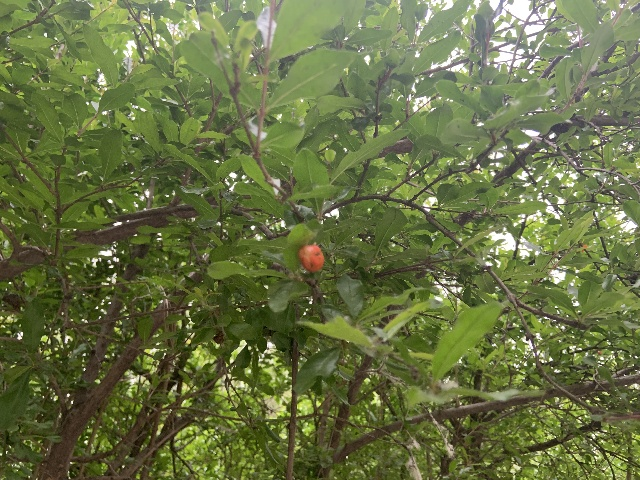bud: (298, 243, 324, 272), (597, 350, 601, 354)
